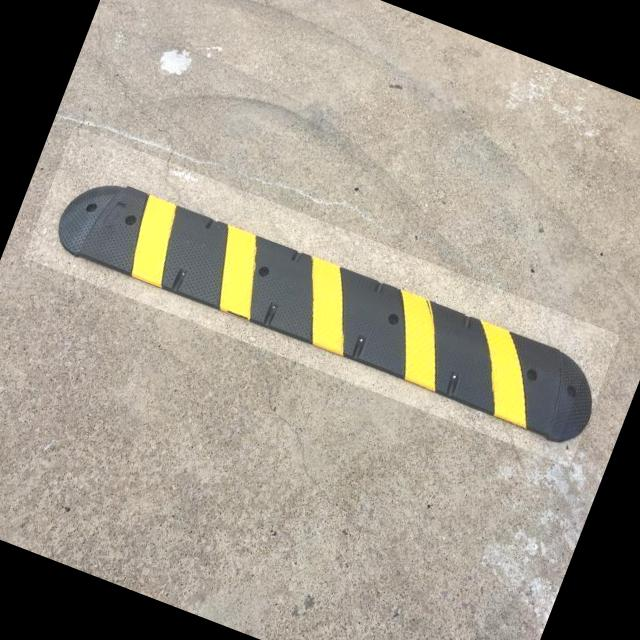bump: (66, 148, 600, 459)
